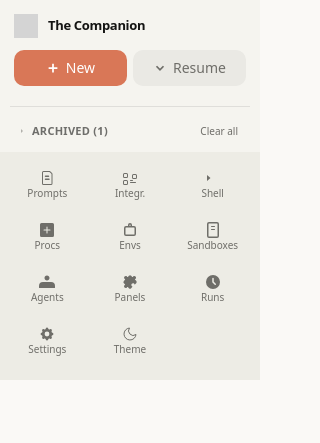
Scenario: Sidebar › cancelling delete closes the modal without deleting
The image size is (320, 443).
// Expand archived section
What coordinates should you click on to do the following:
click the button "Archived (1)"
I would click on:
 (101, 131)
Its box is [10, 119, 192, 144].
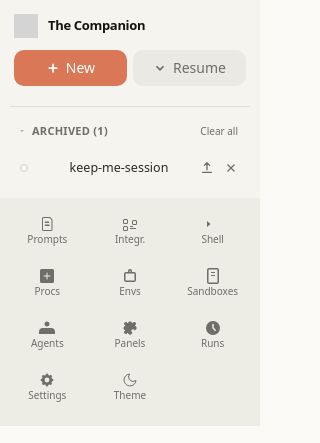
Now the button titled "Delete permanently" is shown, box [220, 156, 242, 178]
